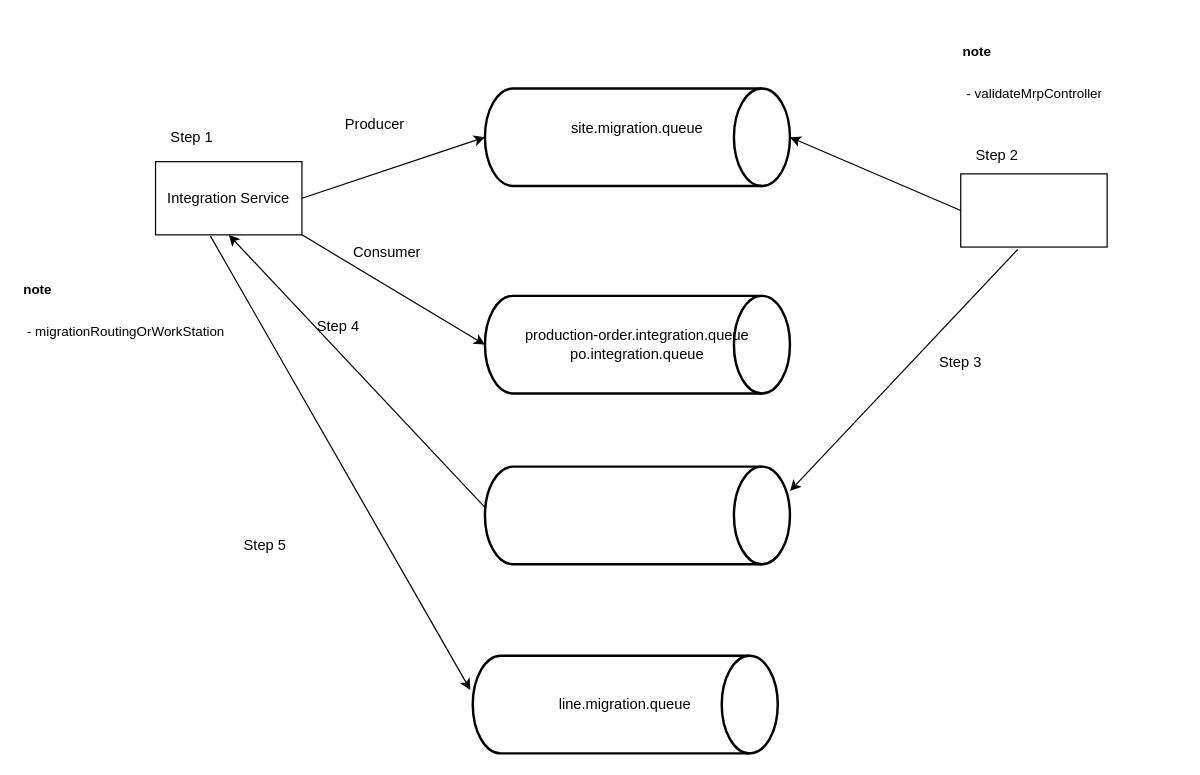
Some shapes in this 1200 by 775 pixel diagram are drawn without their labels. Here are the shapes that lost their labels. From the top down, the centre of each, then its label:
the point at 1033,210: Master Service
the point at 637,515: site.handler.queue
